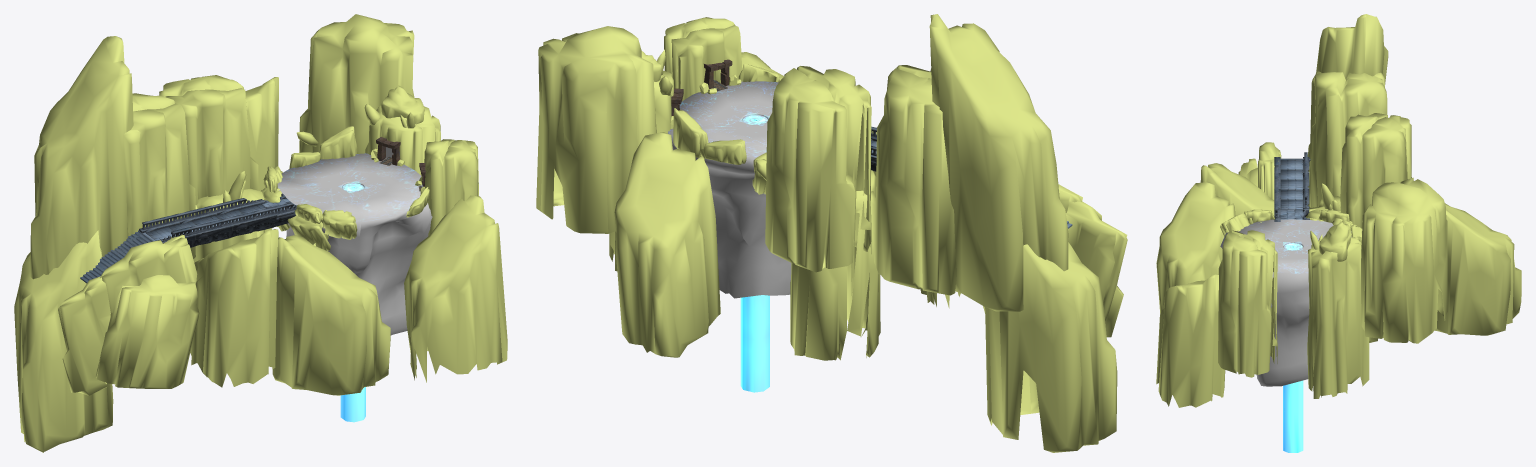
File: Boss1.fbx
The picture shows the model from 3 angles, left to right: view 1: azimuth 30°, elevation 25°; view 2: azimuth 150°, elevation 25°; view 3: azimuth 270°, elevation 25°; orthographic projection. The views are drawn at different scales.
Visible parts, largest first — view 1: Boss1.011; view 2: Boss1.011; view 3: Boss1.011.
Boxes of the visible parts, x1,y1,x2,y2 form: Boss1.011: (14,14,507,452); Boss1.011: (536,14,1127,452); Boss1.011: (1156,14,1521,452).
Size of the model in its own units: 388 by 335 by 316.
